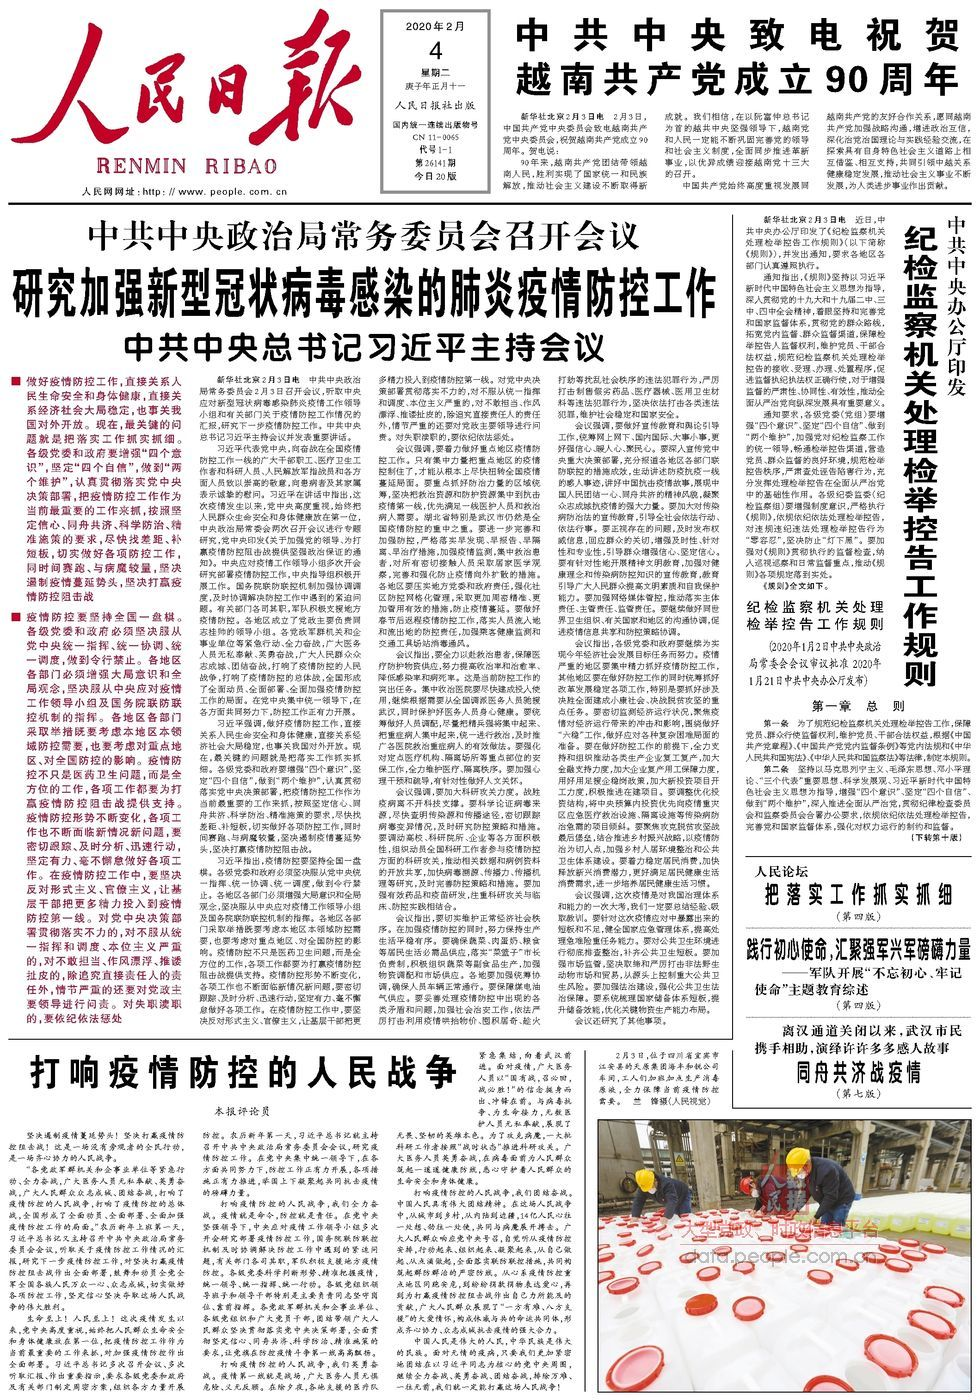pic: (593, 1114, 974, 1398)
